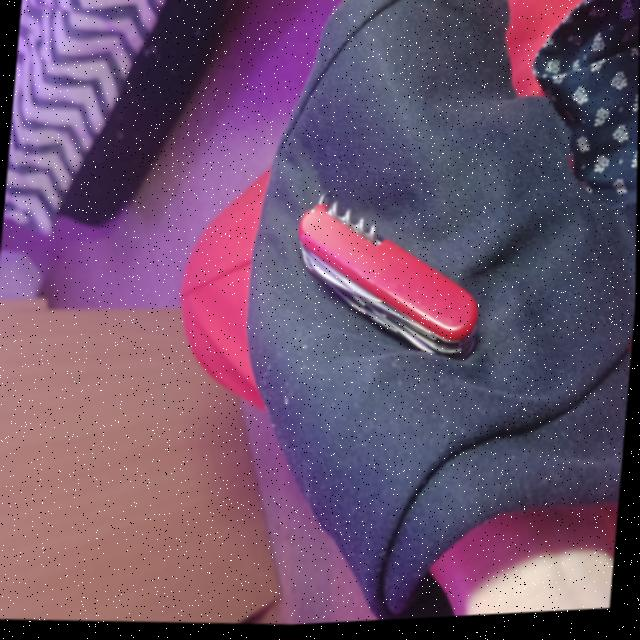knife victorinox: (299, 197, 479, 359)
